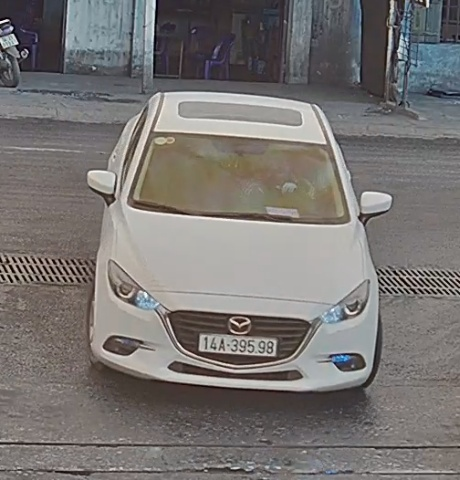vehicle plate: (196, 328, 283, 360)
